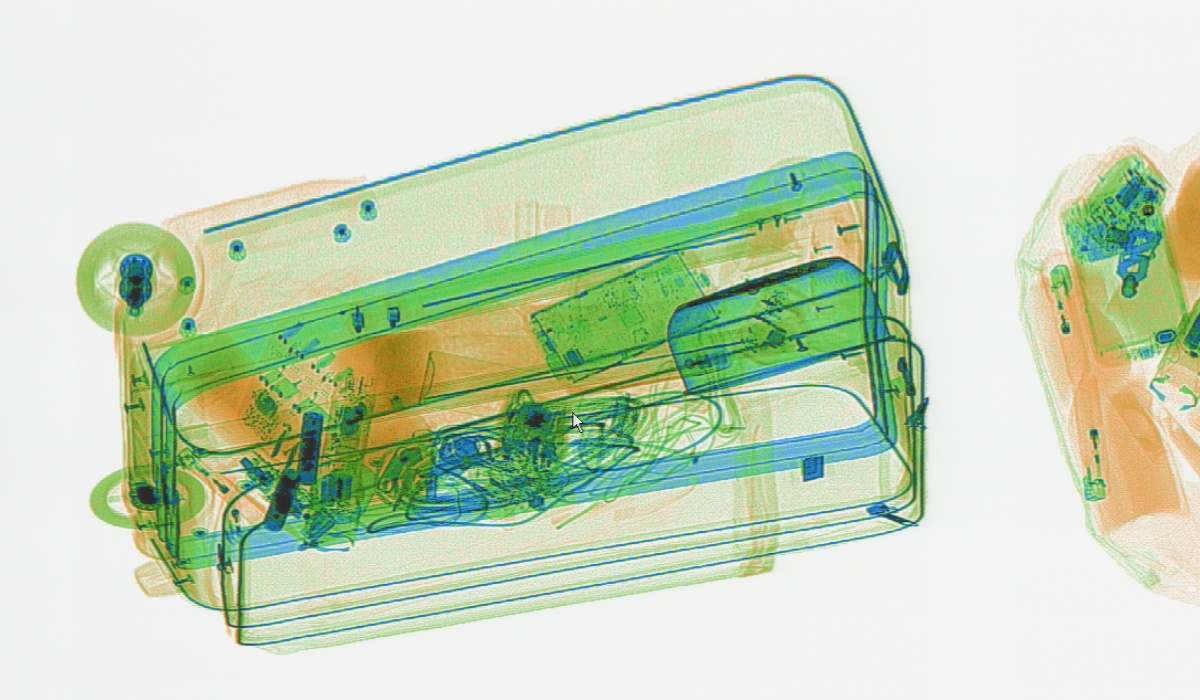lighter: (172, 442, 275, 531), (1044, 252, 1092, 391), (1069, 369, 1111, 504), (209, 443, 252, 544)
